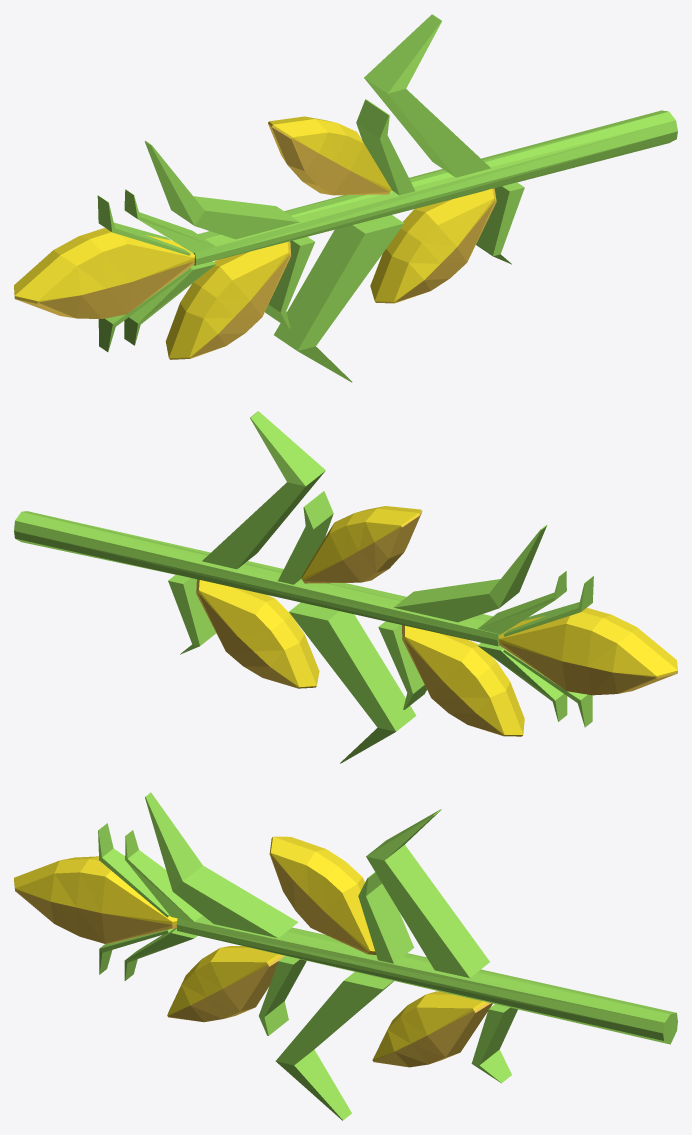
Rendered from misir.fbx.
3 renders of one model, top to bottom at view 1: azimuth 30°, elevation 25°; view 2: azimuth 150°, elevation 25°; view 3: azimuth 330°, elevation 25°, orthographic. The views are drawn at different scales.
Parts seen in each view (by area): view 1: Object_3; view 2: Object_3; view 3: Object_3.
Part boxes in pixels (box(x1,y1,x2,y2)): Object_3: box(14, 14, 677, 382); Object_3: box(14, 411, 677, 763); Object_3: box(14, 792, 677, 1120).
Bounding box in the file's own units: 570 × 275 × 56.09.
